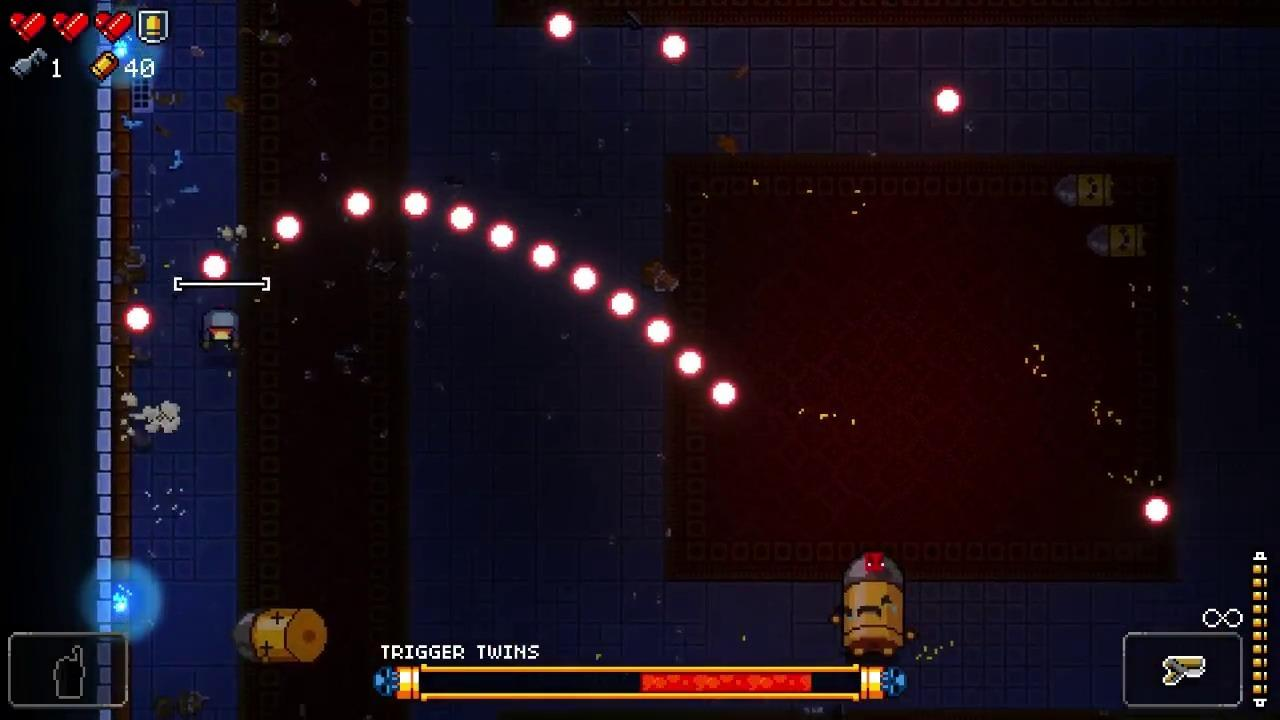boss_smiley: (842, 555, 903, 655)
bullet: (527, 240, 562, 274), (486, 217, 518, 253), (341, 189, 375, 220), (400, 189, 431, 222), (568, 262, 599, 295), (659, 34, 692, 64), (200, 251, 231, 282), (273, 214, 306, 243), (544, 12, 575, 42), (646, 319, 676, 348), (122, 305, 153, 333), (676, 349, 705, 378), (608, 290, 636, 319), (449, 202, 476, 232), (938, 88, 962, 116), (713, 383, 737, 408)
dead_boss_shades: (231, 611, 328, 665)
dead_bullet_kin: (1088, 223, 1144, 260), (1054, 175, 1115, 208)
player: (201, 311, 244, 353)
